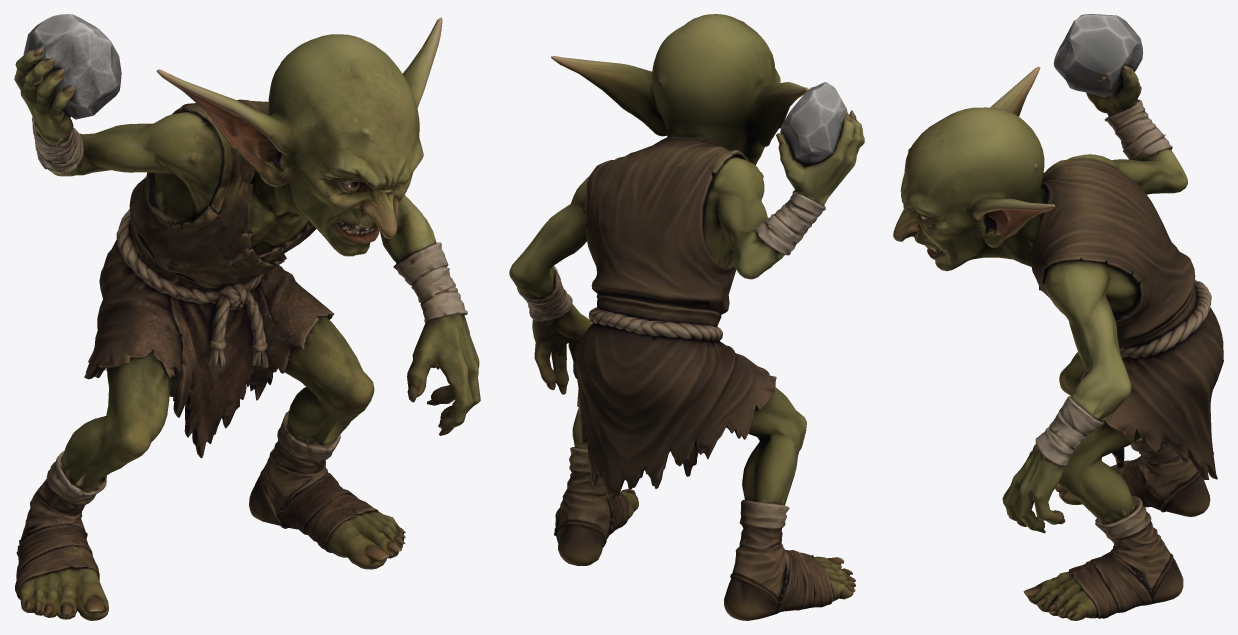
File: goblin.glb
3 views of the same model, side by side, from view 1: azimuth 30°, elevation 25°; view 2: azimuth 150°, elevation 25°; view 3: azimuth 270°, elevation 25° (orthographic). The views are drawn at different scales.
Visible parts, largest first — view 1: world; view 2: world; view 3: world.
Boxes of the visible parts, box(x1,y1,x2,y2) form: world: box(14, 14, 480, 620); world: box(509, 14, 864, 620); world: box(893, 14, 1223, 620).
Bounding box in the file's own units: 0.7423 × 0.9996 × 0.6192.
Materials: 1 (1 with a texture image).
